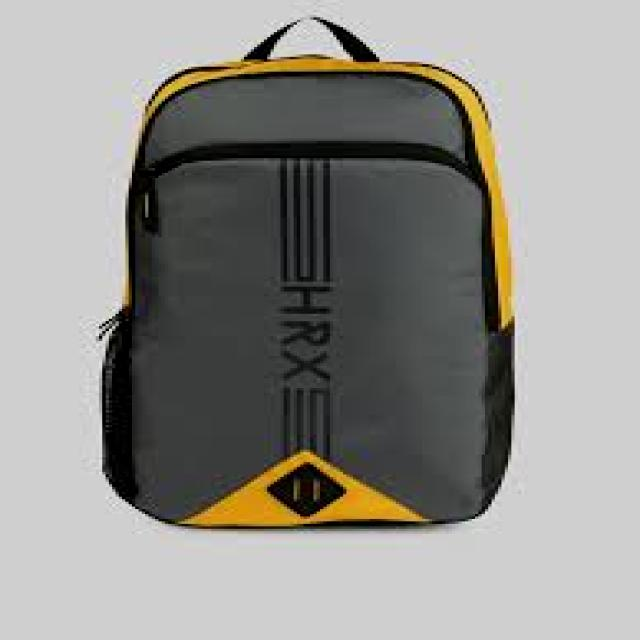backpack: (97, 16, 516, 530)
